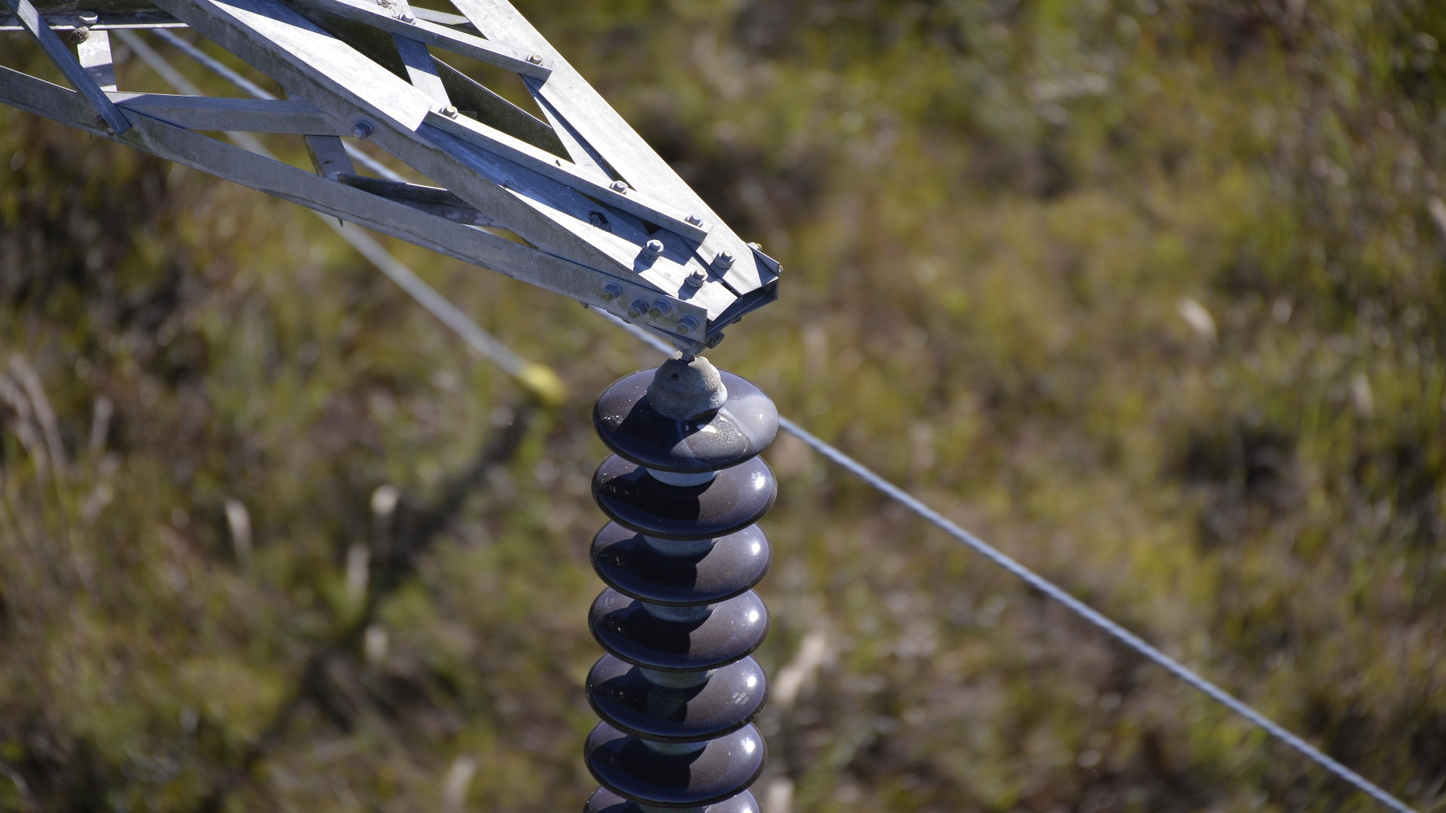insulator: (576, 361, 783, 813)
